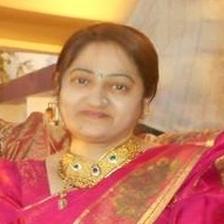no_mask: (61, 43, 141, 139)
